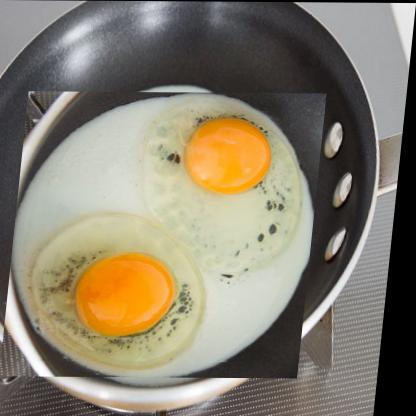egg: (10, 88, 326, 383)
